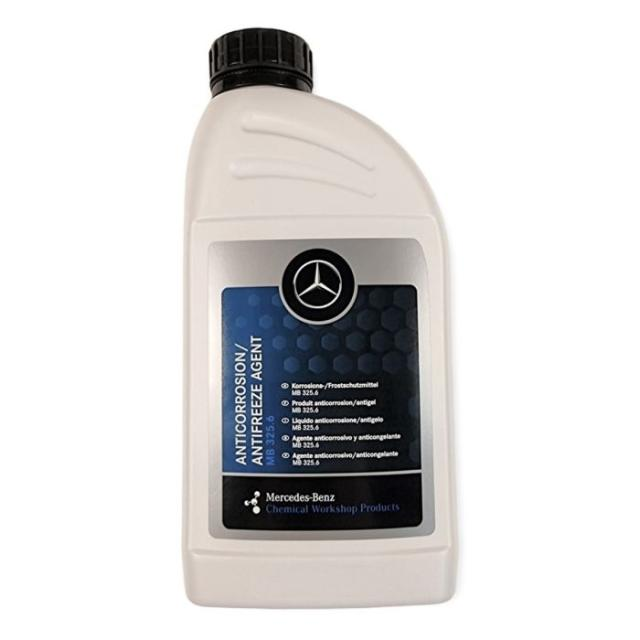coolant: (178, 22, 464, 614)
